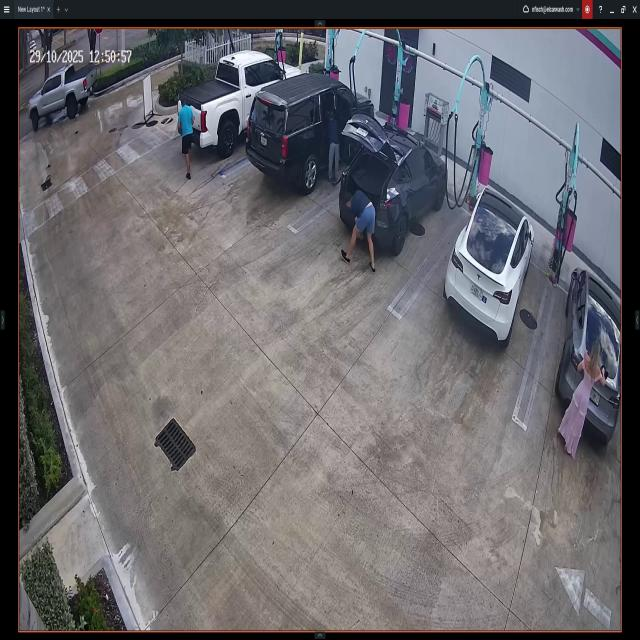Car: (246, 70, 373, 196), (339, 114, 447, 253), (446, 186, 535, 349), (178, 50, 310, 157), (556, 263, 620, 441), (28, 67, 96, 129)
